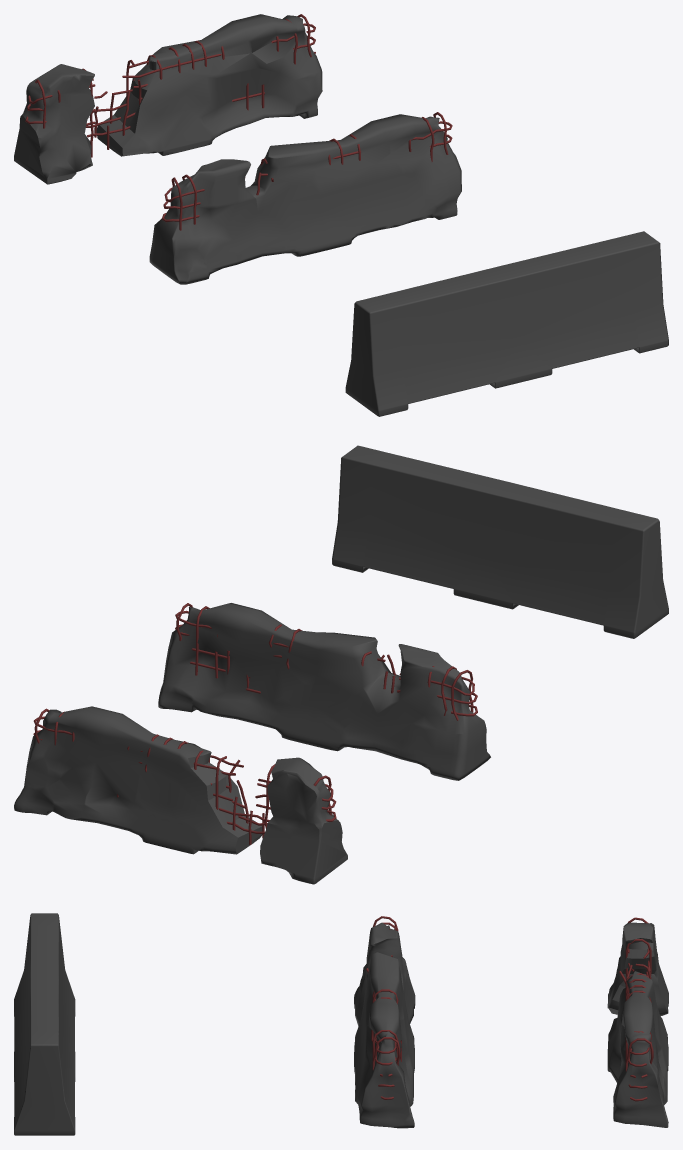
Rendered from Cement Barricades.fbx.
The picture shows the model from 3 angles, top to bottom: view 1: azimuth 30°, elevation 25°; view 2: azimuth 150°, elevation 25°; view 3: azimuth 270°, elevation 25°; orthographic projection. The views are drawn at different scales.
Parts seen in each view (by area): view 1: NewBarrier, DamagedBarrier, DestroyedBarrier; view 2: NewBarrier, DamagedBarrier, DestroyedBarrier; view 3: NewBarrier, DamagedBarrier, DestroyedBarrier.
Part boxes in pixels (x1,y1,x2,y2): NewBarrier: (345,231,668,416); DamagedBarrier: (149,114,461,284); DestroyedBarrier: (14,14,322,184); NewBarrier: (332,445,668,638); DamagedBarrier: (158,603,490,780); DestroyedBarrier: (14,706,347,884); NewBarrier: (14,913,75,1135); DamagedBarrier: (354,922,415,1128); DestroyedBarrier: (607,922,668,1127).
Bounding box in the file's own units: 8.5 × 2.62 × 16.94.
